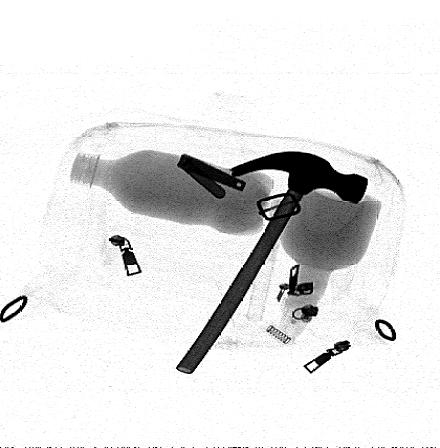Hammer: (176, 150, 369, 375)
